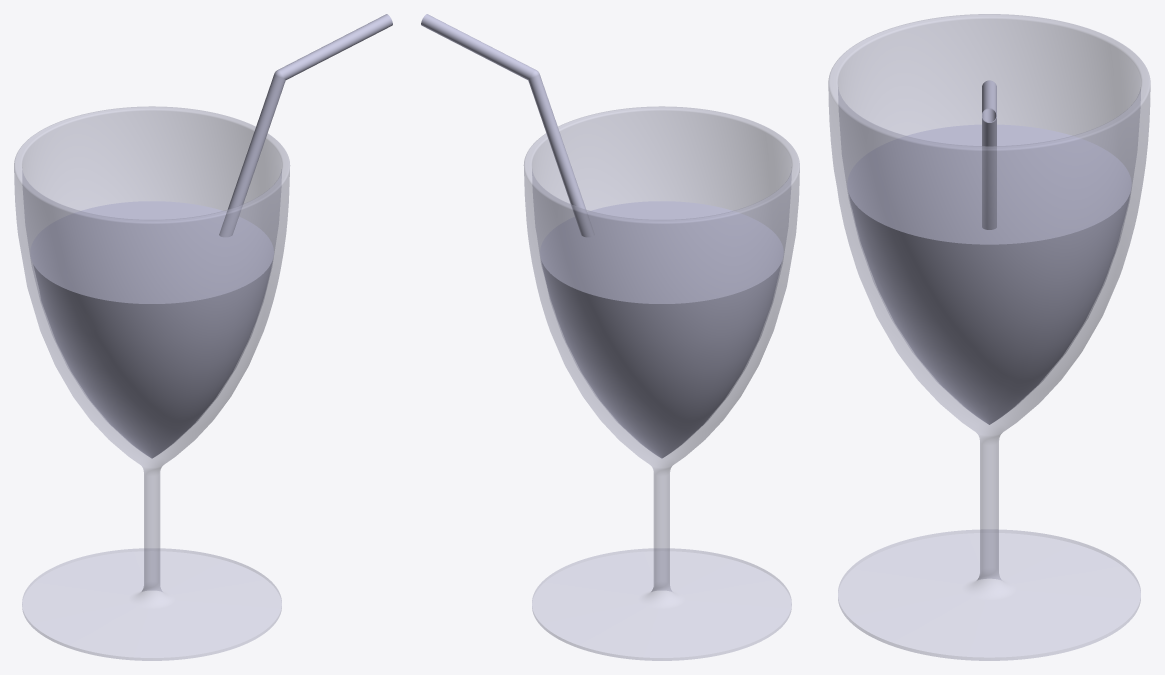
The model's file is cocktail.gltf.
The picture shows the model from 3 angles, left to right: view 1: azimuth 30°, elevation 25°; view 2: azimuth 150°, elevation 25°; view 3: azimuth 270°, elevation 25°; orthographic projection. The views are drawn at different scales.
Visible parts, largest first — view 1: glass, content, straw; view 2: glass, content, straw; view 3: glass, content, straw.
Boxes of the visible parts, x1,y1,x2,y2 form: glass: [14, 106, 290, 660]; content: [30, 201, 273, 458]; straw: [219, 14, 392, 237]; glass: [523, 106, 799, 660]; content: [540, 201, 783, 458]; straw: [421, 14, 594, 237]; glass: [828, 14, 1150, 660]; content: [847, 124, 1131, 424]; straw: [982, 80, 996, 229].
Bounding box in the file's own units: 0.1273 × 0.1813 × 0.085.
